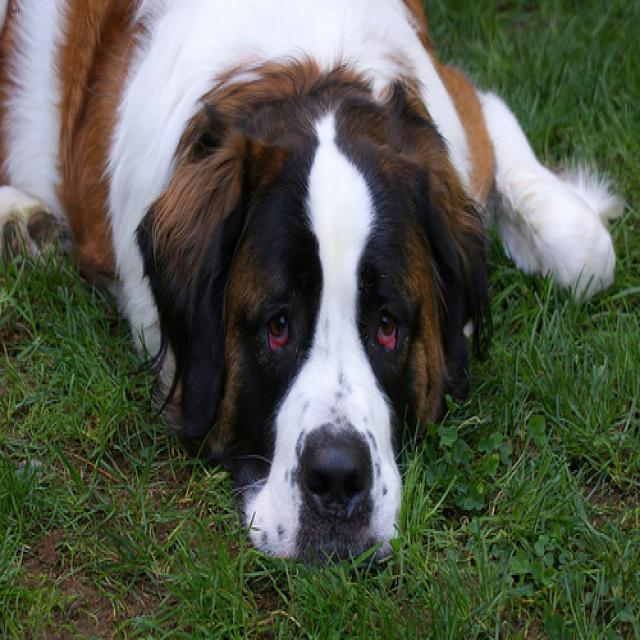dog-saint_bernard: (1, 2, 635, 573)
